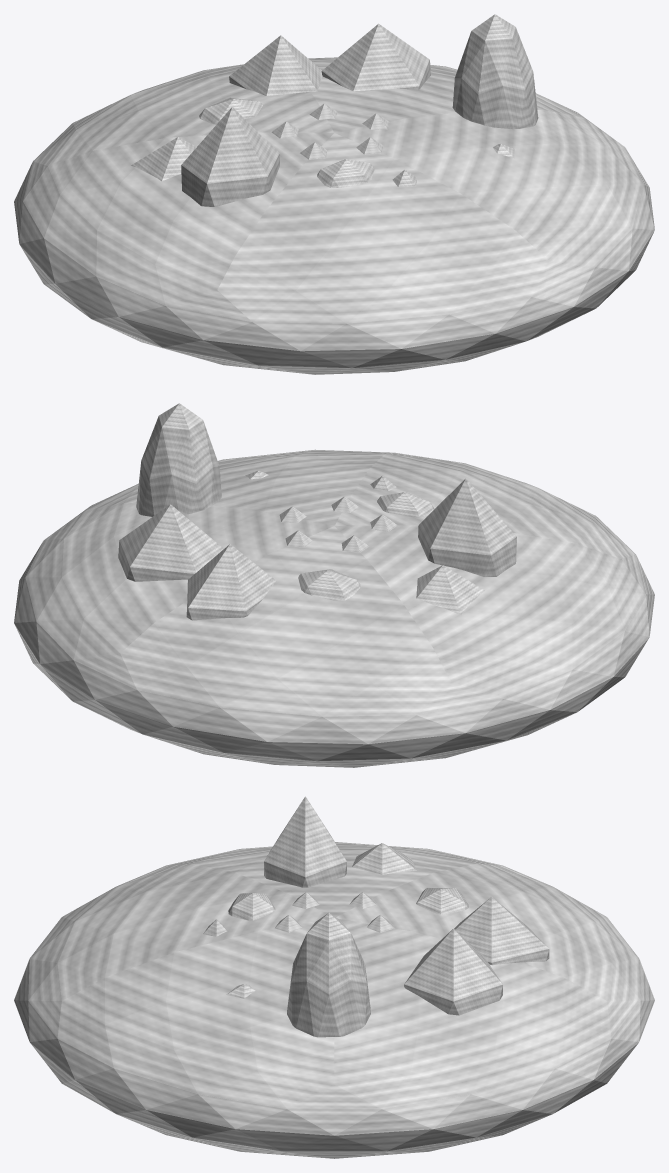
The model's file is raw_quartz_node_variant_a.glb.
3 views of the same model, one above another, from view 1: azimuth 30°, elevation 25°; view 2: azimuth 150°, elevation 25°; view 3: azimuth 270°, elevation 25° (orthographic).
Parts seen in each view (by area): view 1: Resource node bedrock, Exposed ore formation.001, Exposed ore formation.006, Exposed ore formation.002, Exposed ore formation.003, Exposed ore formation.005, Exposed ore formation.007, Exposed ore formation.004; view 2: Resource node bedrock, Exposed ore formation.001, Exposed ore formation.006, Exposed ore formation.002, Exposed ore formation.003, Exposed ore formation.005, Exposed ore formation.004, Exposed ore formation.007; view 3: Resource node bedrock, Exposed ore formation.001, Exposed ore formation.002, Exposed ore formation.006, Exposed ore formation.003, Exposed ore formation.005, Exposed ore formation.004, Exposed ore formation.007.
Part boxes in pixels (x1,y1,x2,y2): Resource node bedrock: [14, 57, 654, 374]; Exposed ore formation.001: [452, 14, 538, 129]; Exposed ore formation.006: [181, 107, 279, 206]; Exposed ore formation.002: [321, 23, 430, 91]; Exposed ore formation.003: [229, 35, 322, 95]; Exposed ore formation.005: [131, 137, 196, 181]; Exposed ore formation.007: [317, 159, 374, 187]; Exposed ore formation.004: [199, 97, 262, 124]; Resource node bedrock: [14, 449, 654, 767]; Exposed ore formation.001: [136, 403, 221, 516]; Exposed ore formation.006: [418, 478, 516, 576]; Exposed ore formation.002: [118, 504, 223, 581]; Exposed ore formation.003: [186, 544, 276, 620]; Exposed ore formation.005: [416, 565, 484, 614]; Exposed ore formation.004: [298, 569, 360, 600]; Exposed ore formation.007: [377, 492, 434, 517]; Resource node bedrock: [14, 842, 654, 1158]; Exposed ore formation.001: [287, 913, 370, 1037]; Exposed ore formation.002: [404, 928, 502, 1015]; Exposed ore formation.006: [264, 796, 346, 887]; Exposed ore formation.003: [454, 897, 549, 965]; Exposed ore formation.005: [352, 843, 416, 874]; Exposed ore formation.004: [416, 888, 468, 914]; Exposed ore formation.007: [228, 893, 275, 920].
Size of what is drawn, in the model's own units: 6 by 2.55 by 6.
2 materials, 2 textured.
